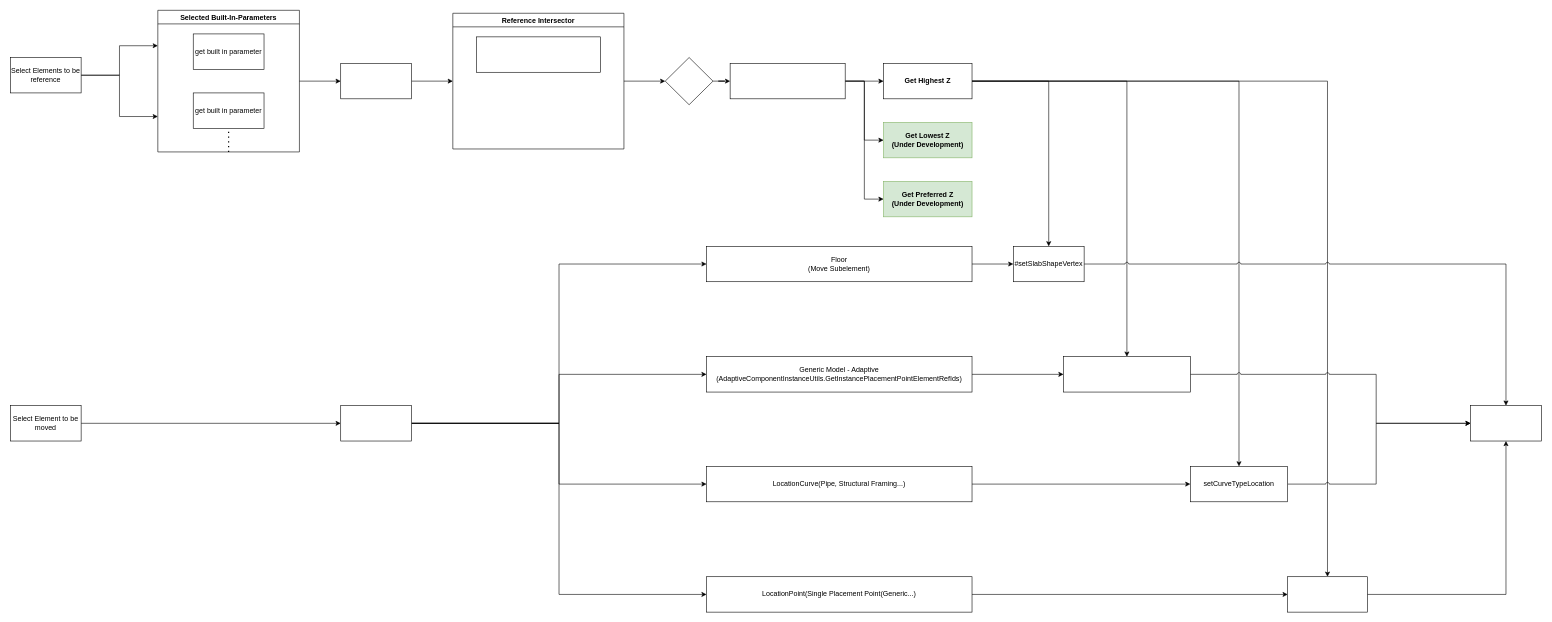
The diagram is 1552 pixels wide and 622 high, and some of its shapes have lost their labels. Each missing label, with the centre of its shape:
"Create OrFilter" belongs at pixel 376 81.
"ElementTransformUtils.MoveElement" belongs at pixel 1126 374.
"Find" belongs at pixel 689 81.
"FindReferencesInRevitLinks : True" belongs at pixel 538 54.
"Finish" belongs at pixel 1505 423.
"GetReference().GlobalPoint" belongs at pixel 787 81.
"object.Location" belongs at pixel 376 423.
"setPointTypeLocation" belongs at pixel 1327 594.
